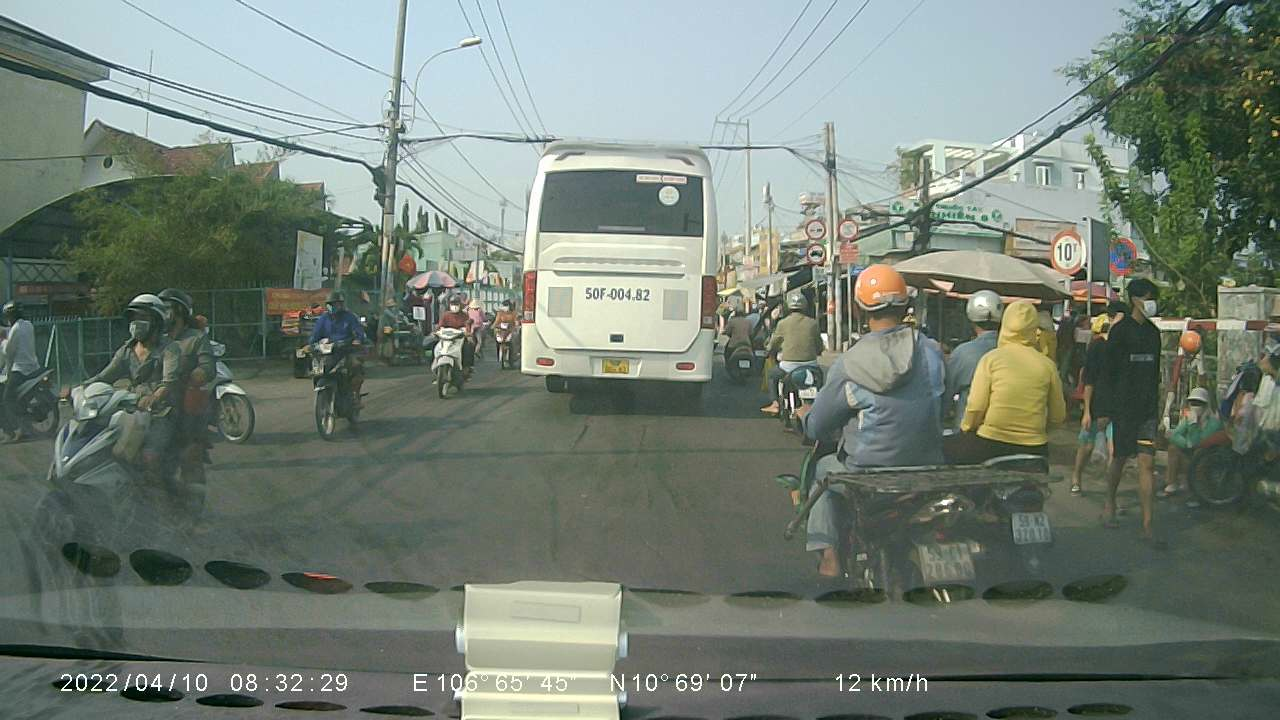Bien khac: (1048, 228, 1084, 275), (804, 239, 827, 266), (804, 216, 827, 240)
